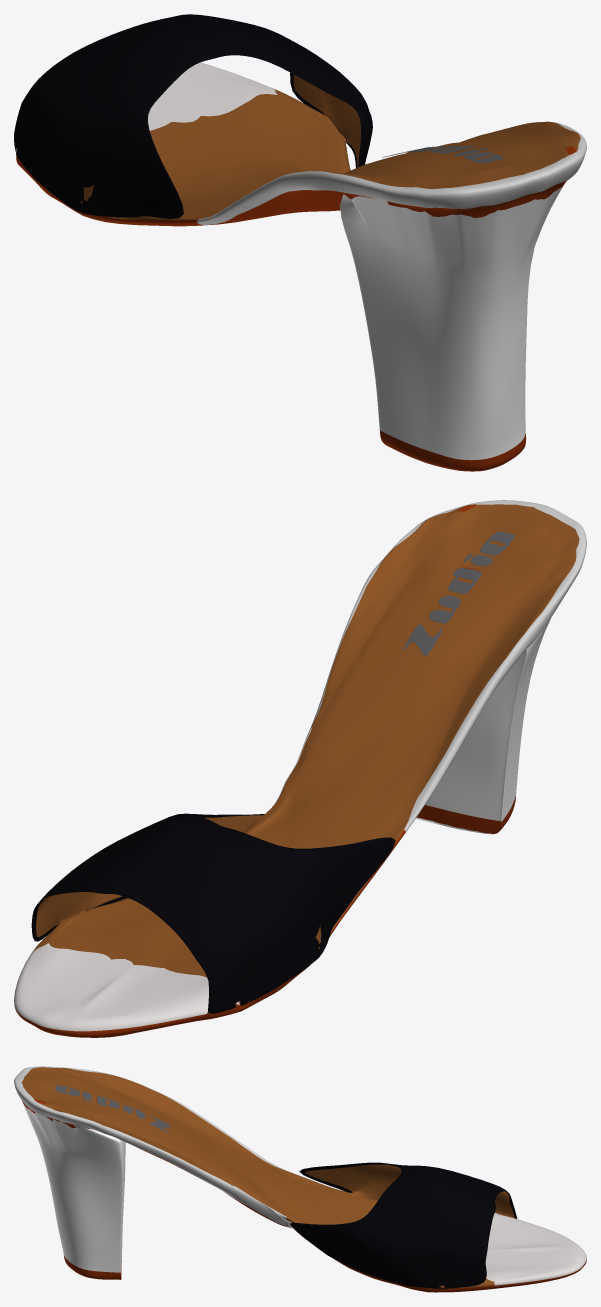
File: sandal4.obj
3 renders of one model, top to bottom at view 1: azimuth 30°, elevation 25°; view 2: azimuth 150°, elevation 25°; view 3: azimuth 270°, elevation 25°, orthographic. The views are drawn at different scales.
Visible parts, largest first — view 1: pCylinder2; view 2: pCylinder2; view 3: pCylinder2.
Boxes of the visible parts, x1,y1,x2,y2 form: pCylinder2: (14,14,586,471); pCylinder2: (14,500,586,1037); pCylinder2: (14,1066,586,1292).
Size of the model in its own units: 1.78 by 1.86 by 5.33.
